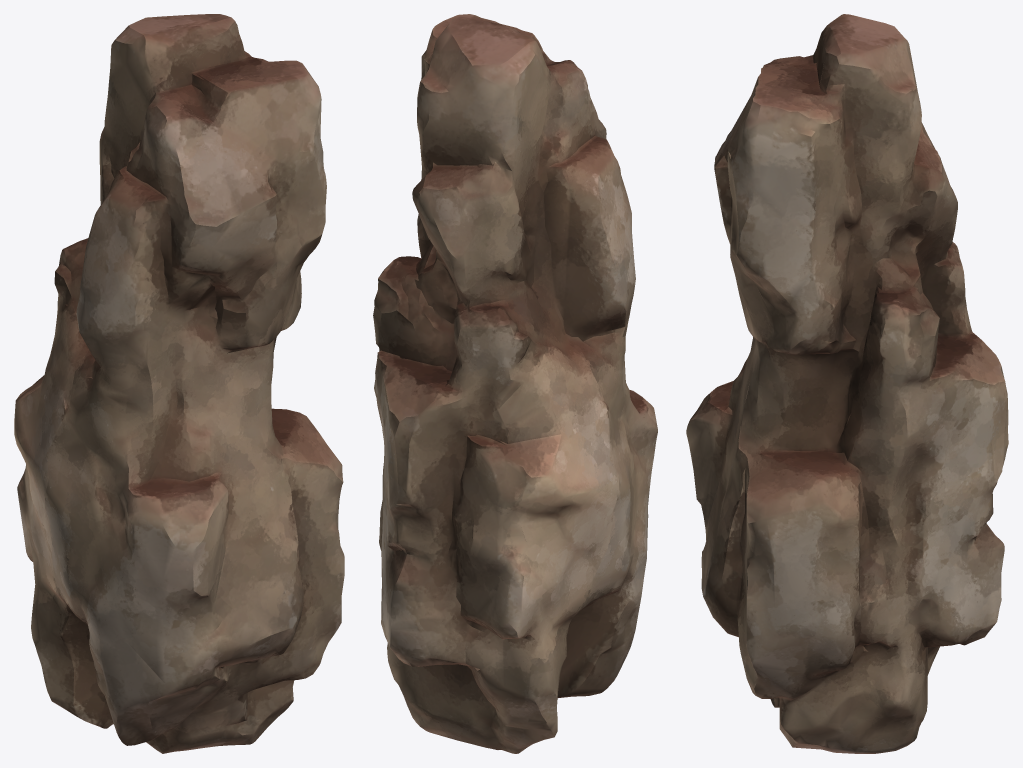
File: rock6.fbx
3 renders of one model, left to right at view 1: azimuth 30°, elevation 25°; view 2: azimuth 150°, elevation 25°; view 3: azimuth 270°, elevation 25°, orthographic. The views are drawn at different scales.
Parts seen in each view (by area): view 1: Plane.002; view 2: Plane.002; view 3: Plane.002.
Boxes of the visible parts, x1=… form: Plane.002: x1=14, y1=14, x2=344, y2=753; Plane.002: x1=373, y1=14, x2=657, y2=753; Plane.002: x1=686, y1=14, x2=1008, y2=753.
Size of the model in its own units: 514 by 1390 by 580.
